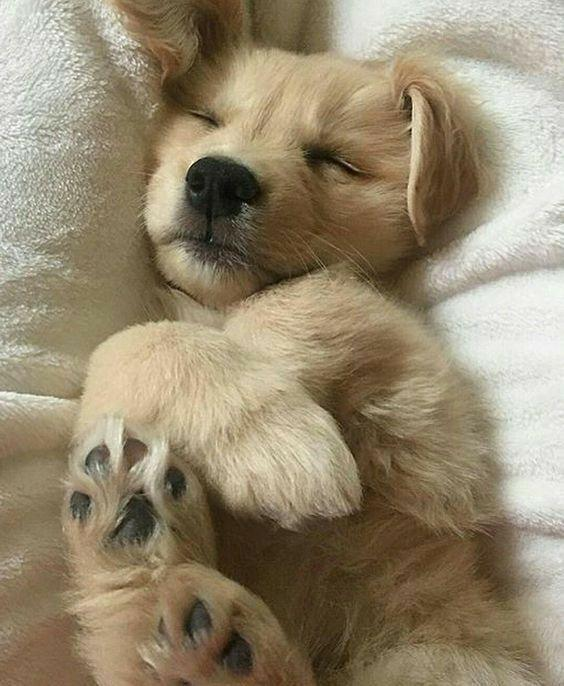puppy-dog: (43, 1, 541, 686)
